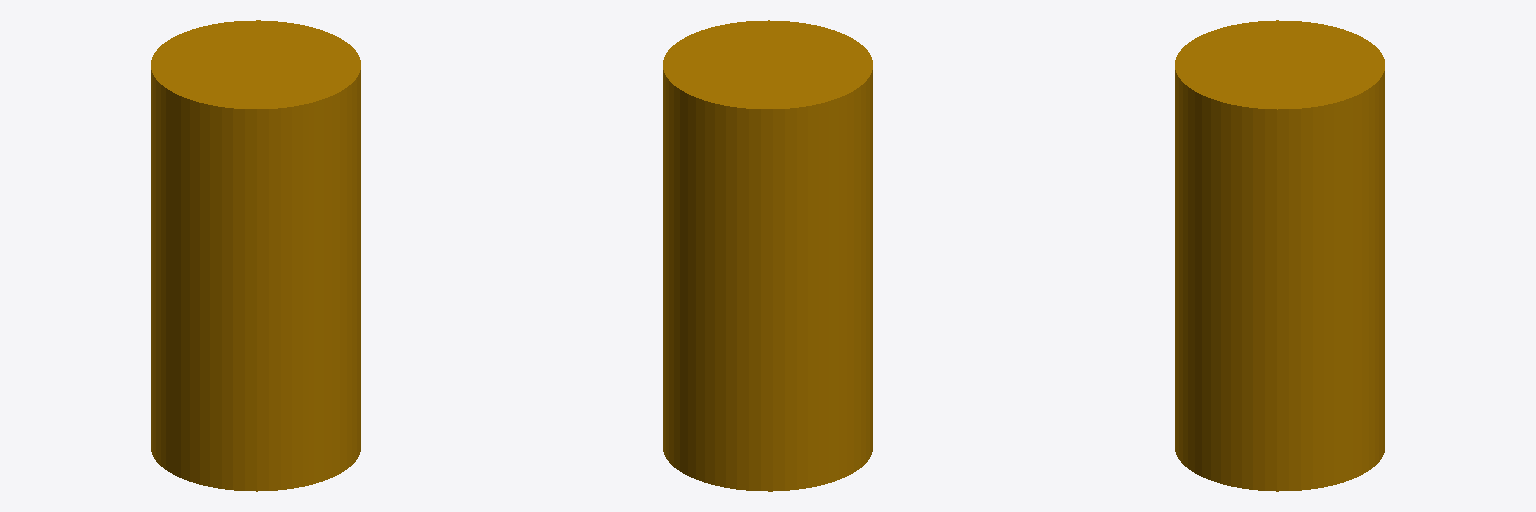
robot.urdf — objects:
<?xml  version="1.0"?>
<robot name ="objects"> 
    <!-- Author: [author]; e-mail:[email redacted]. The urdf file was develped in tongji university.-->

    <!--create  color params-->
    <material name ="LightGrey">
        <color rgba="0.7 0.7 0.7 1.0"/>
    </material>

    <material name ="White">
        <color rgba="1 1 1 1.0"/>
    </material>

    <material name ="Green">
        <color rgba="0.1. 0. 1.0"/>
    </material>

    <material name ="Yellow">
        <color rgba="1. 1. 0. 1.0"/>
    </material>

    <material name ="Orange">
        <color rgba="1. 0.38 0. 1.0"/>
    </material>

    <material name ="Blue">
        <color rgba="0.69 0.87 0.9 1.0"/>
    </material>

    <material name ="Black">
        <color rgba="0. 0. 0. 1.0"/>
    </material>

    <material name ="DarkGold">
        <color rgba="0.72 0.52 0.04 1.0"/>
    </material>

    <mass name ="table_mass">
        <mass value="1.0"/>
    </mass>

    <mass name ="cylander_mass">
        <mass value="2.0"/>
    </mass>



    <link  name ="World"/>

    <joint name="cylinder1_to_world" type="floating">
        <parent link="World"/>
        <child link="cylinder1"/>
        <origin xyz="0. 0. 0." rpy="0.0 0.0 0.0"/>
    </joint>

    <link name = "cylinder1">
        <contact>
            <lateral_friction value="0.05"/>
            <rolling_friction value="0.0"/>
            <contact_erp value="1.0"/>
        </contact>
        <visual>
            <origin  xyz="0.0 0.0 0.0" rpy="0.0 0.0 0.0"/>
            <geometry>
                <mesh filename = "meshes/cylinder.dae"/>
            </geometry >
            <material name ="DarkGold"/>
        </visual>
        <collision>
            <origin xyz="0.0 0.0 0.0" rpy="0.0 0.0 0.0"/>
            <geometry>
                <mesh filename ="meshes/cylinder.dae"/>
            </geometry>
        </collision>
        <inertial>
            <mass value = "0.5"/>
            <inertia ixx="1" ixy="0.0" ixz="0.0" iyy="1" iyz="0.0" izz="1"/>
        </inertial>
    </link>
</robot>

--- Facts derived from the render (not from the file) ---
3 views of the same robot in one strip: view 1: azimuth 30°, elevation 25°; view 2: azimuth 150°, elevation 25°; view 3: azimuth 270°, elevation 25° (orthographic).
Robot: objects — 2 links, 1 joints (1 floating); root link World; default pose: every joint at zero.
Visible links, largest first — view 1: cylinder1; view 2: cylinder1; view 3: cylinder1.
Boxes of the visible links, box(x1,y1,x2,y2) form: cylinder1: box(151, 20, 360, 491); cylinder1: box(663, 20, 872, 491); cylinder1: box(1175, 20, 1384, 491).
Size in the robot's own frame: 0.1 by 0.1 by 0.2 metres.
1 mesh visuals loaded from 1 distinct referenced files (1 Collada DAE).